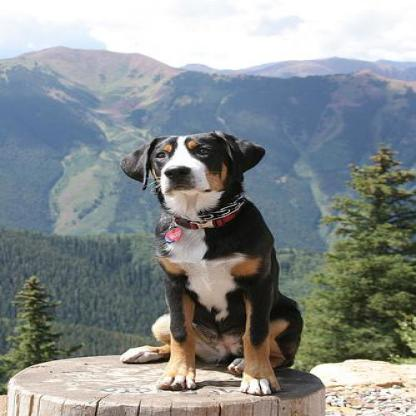Greater_Swiss_Mountain_dog: (117, 130, 305, 395)
